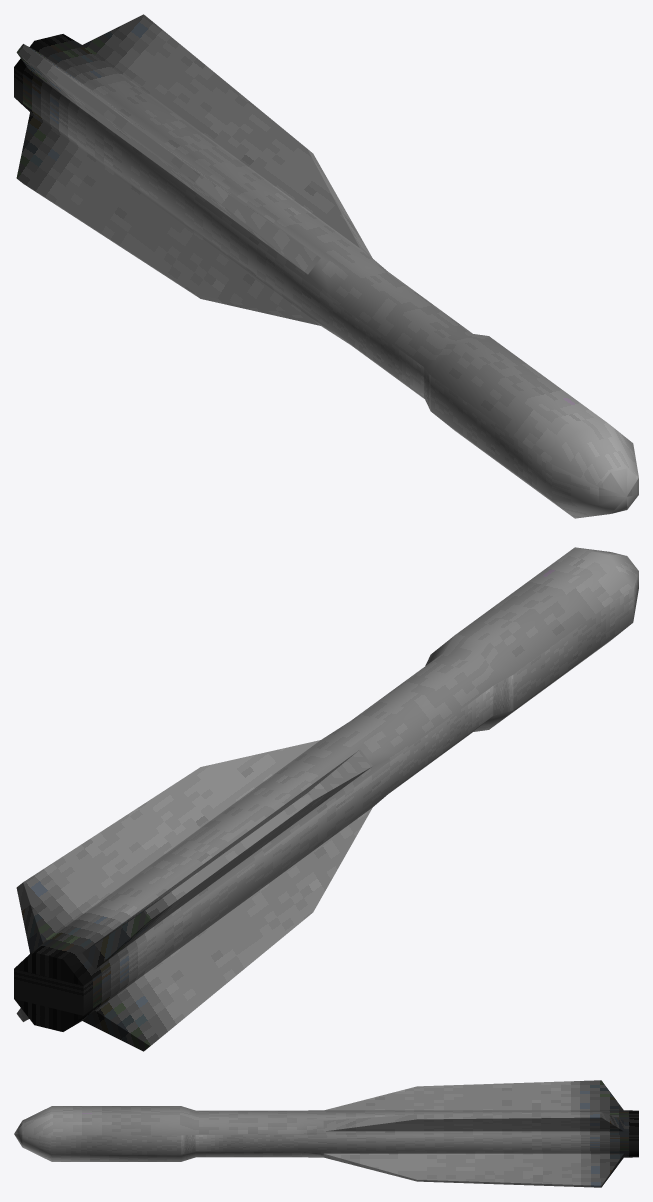
The model's file is hammer.fbx.
The picture shows the model from 3 angles, top to bottom: view 1: azimuth 30°, elevation 25°; view 2: azimuth 150°, elevation 25°; view 3: azimuth 270°, elevation 25°; orthographic projection. The views are drawn at different scales.
Visible parts, largest first — view 1: hammer; view 2: hammer; view 3: hammer.
Boxes of the visible parts, x1=… form: hammer: x1=14, y1=14, x2=638, y2=518; hammer: x1=14, y1=547, x2=638, y2=1051; hammer: x1=14, y1=1080, x2=638, y2=1187.
Size of the model in its own units: 25.57 by 25.57 by 191.
